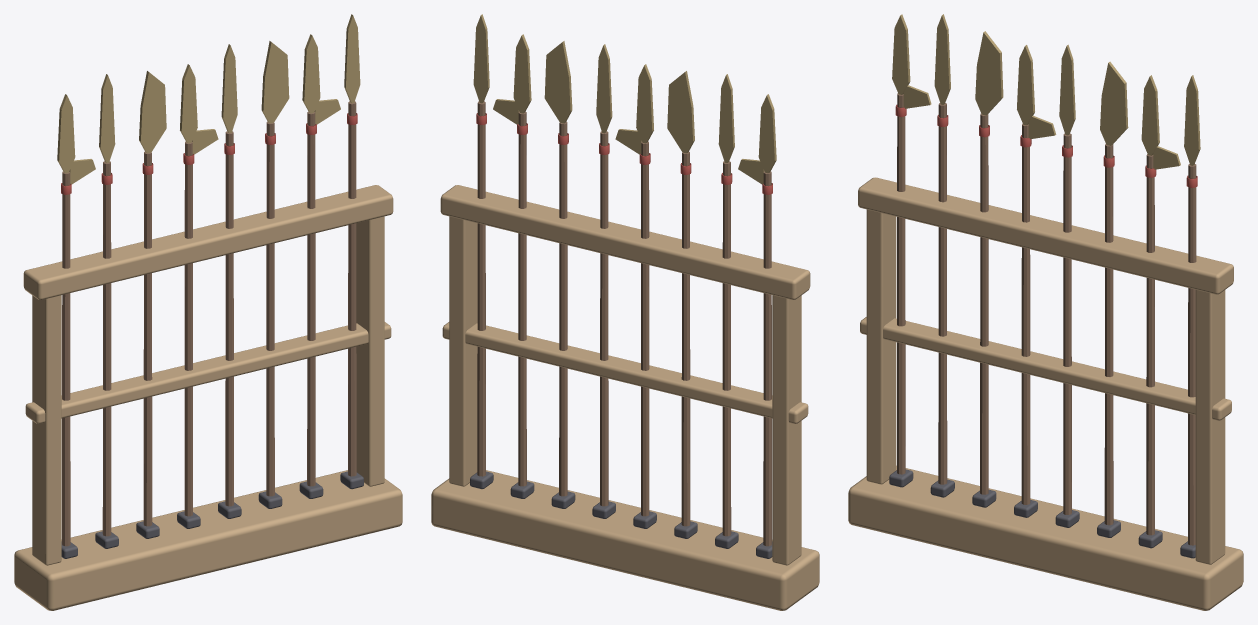
Rendered from weapon-rack.glb.
3 views of the same model, side by side, from view 1: azimuth 30°, elevation 25°; view 2: azimuth 150°, elevation 25°; view 3: azimuth 330°, elevation 25° (orthographic).
Visible parts, largest first — view 1: polearm-weapon-rack; view 2: polearm-weapon-rack; view 3: polearm-weapon-rack.
Boxes of the visible parts, box(x1,y1,x2,y2) form: polearm-weapon-rack: box(14, 14, 402, 610); polearm-weapon-rack: box(431, 14, 819, 610); polearm-weapon-rack: box(848, 14, 1243, 610).
Size of the model in its own units: 2.2 by 3 by 0.3999.
